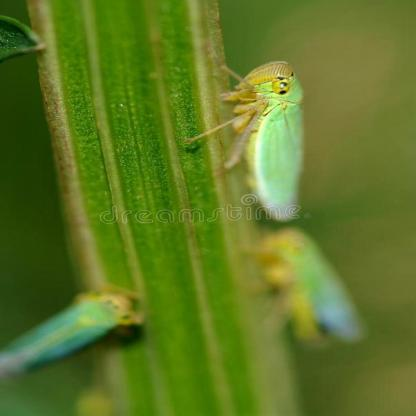green-leafhopper: (218, 58, 316, 226), (9, 278, 134, 378), (264, 229, 346, 348)
